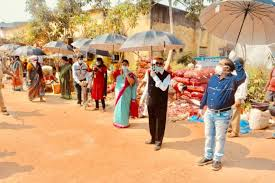Social Distance: (4, 40, 262, 163)
